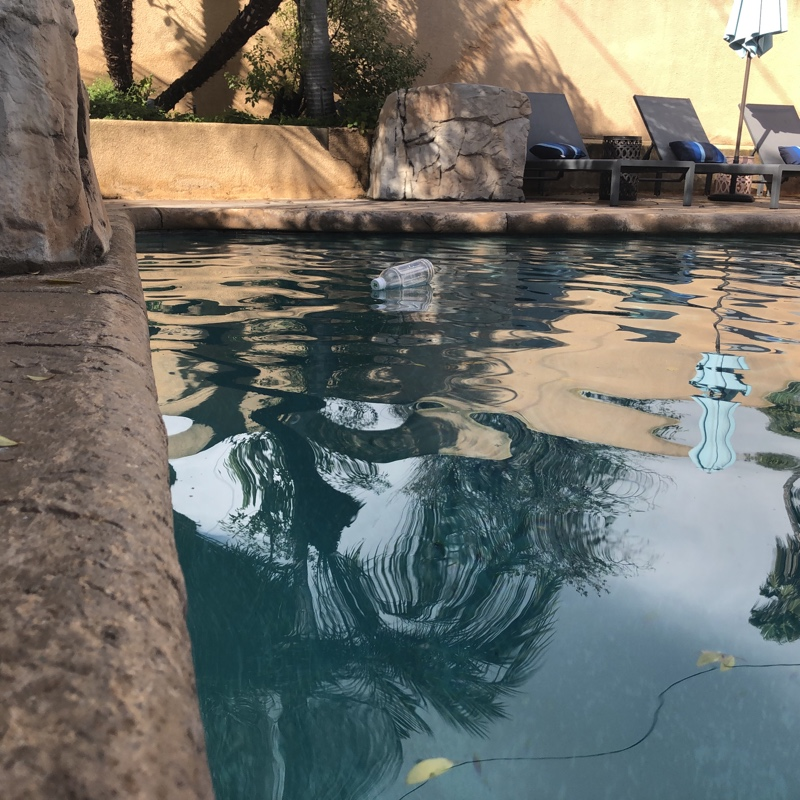Plastic Bottle: (368, 256, 440, 290)
